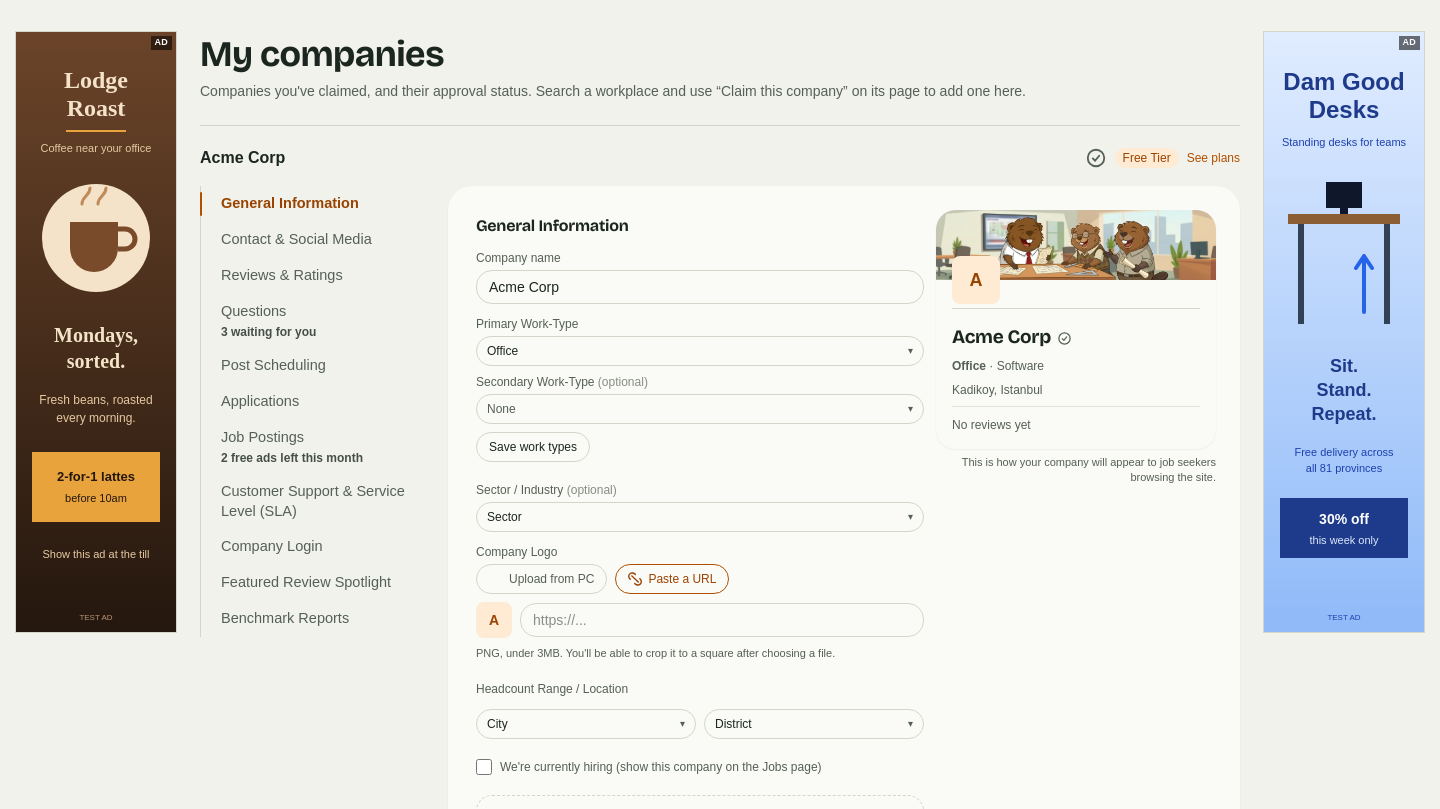
Test: secondary work-type dropdown excludes the primary, and changing the primary clears a now-invalid secondary
Check: the button with aria-label "Primary work-type" shows "Office", box [476,336,924,366]
// The secondary list never offers the current primary.
Click the button with aria-label "Secondary work-type" at (501, 409), box [476,394,924,424]
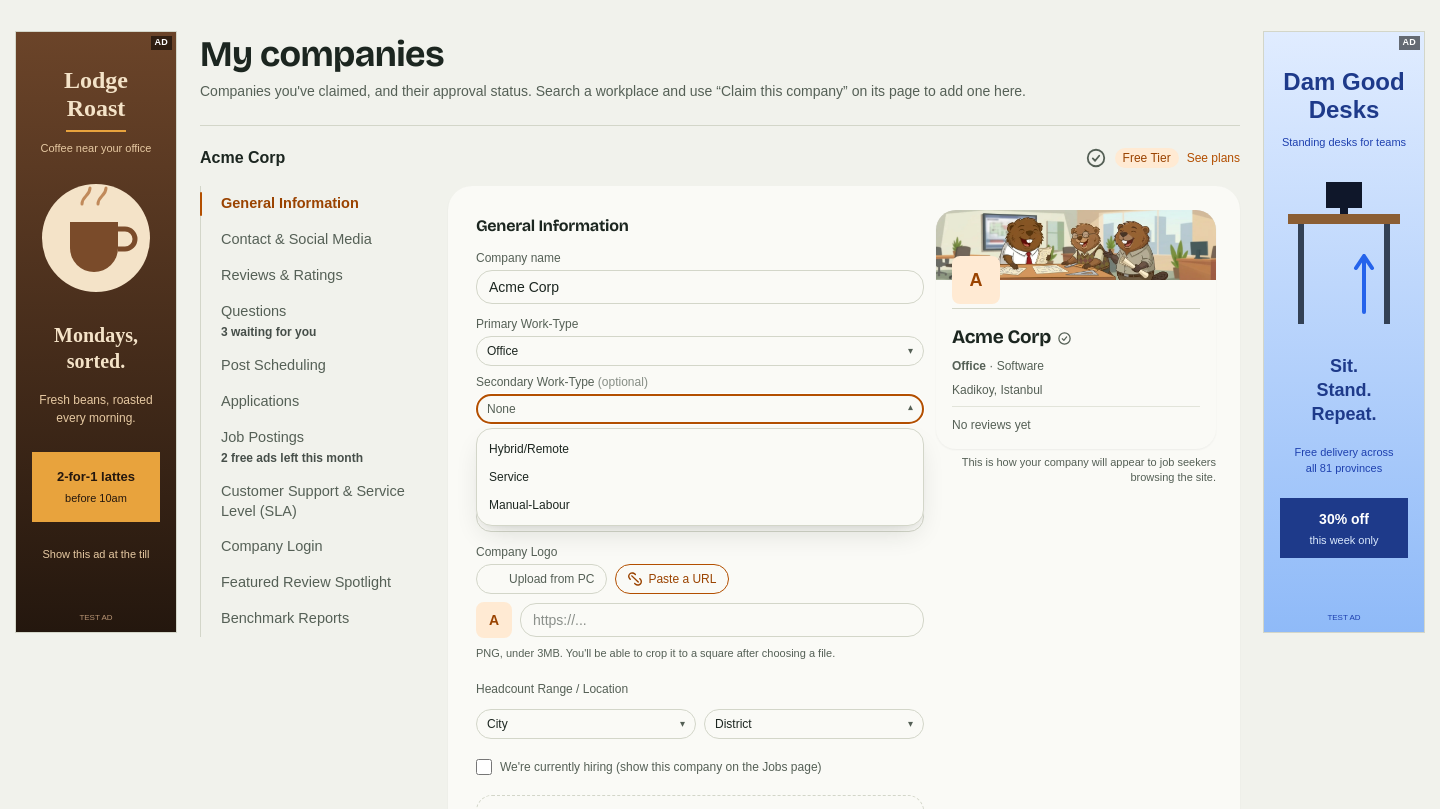
Click the button "Service" at (509, 477), box [481,463,919,491]
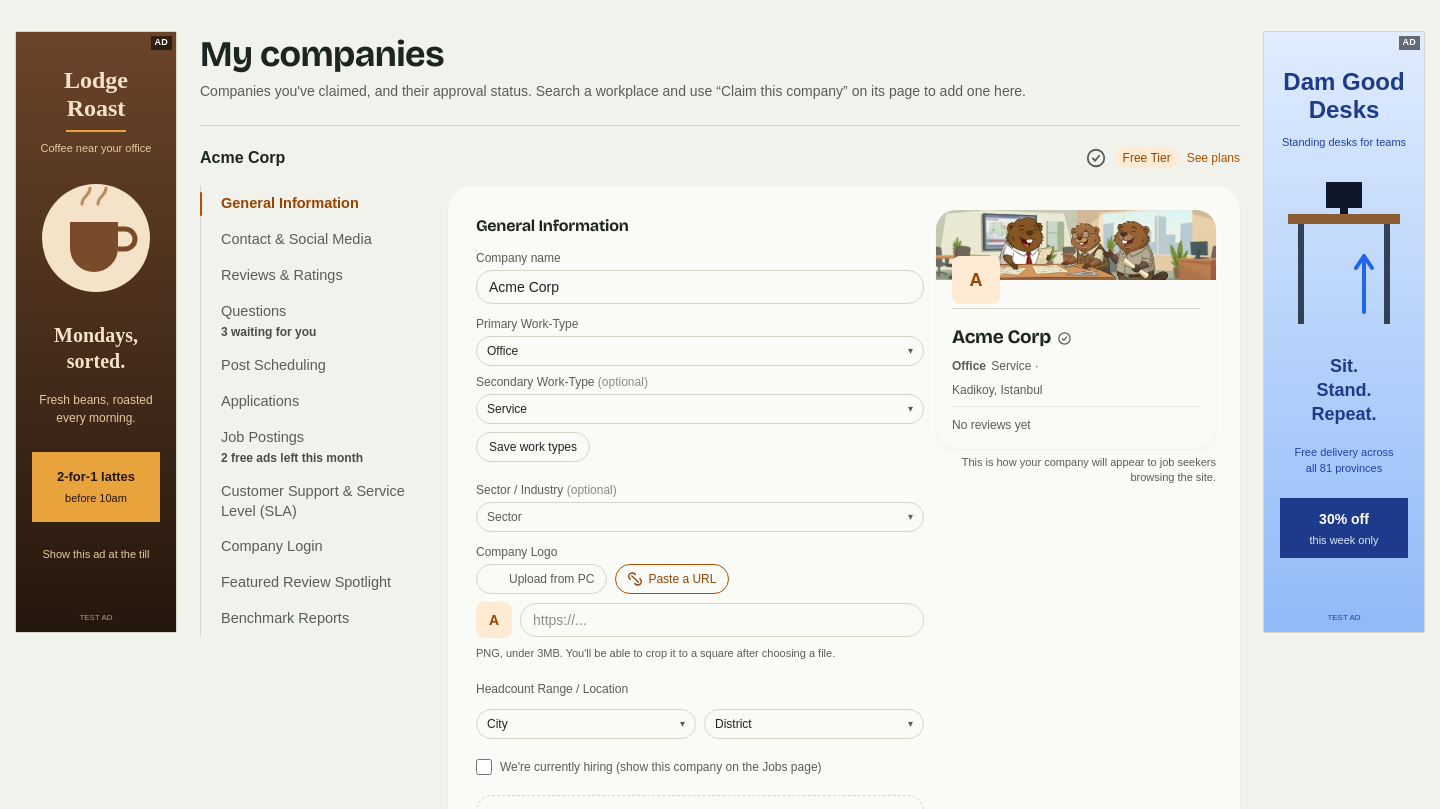
Check: the button with aria-label "Secondary work-type" shows "Service", box [476,394,924,424]
// Switching the primary to what the secondary holds drops the secondary.
Click the button with aria-label "Primary work-type" at (503, 351), box [476,336,924,366]
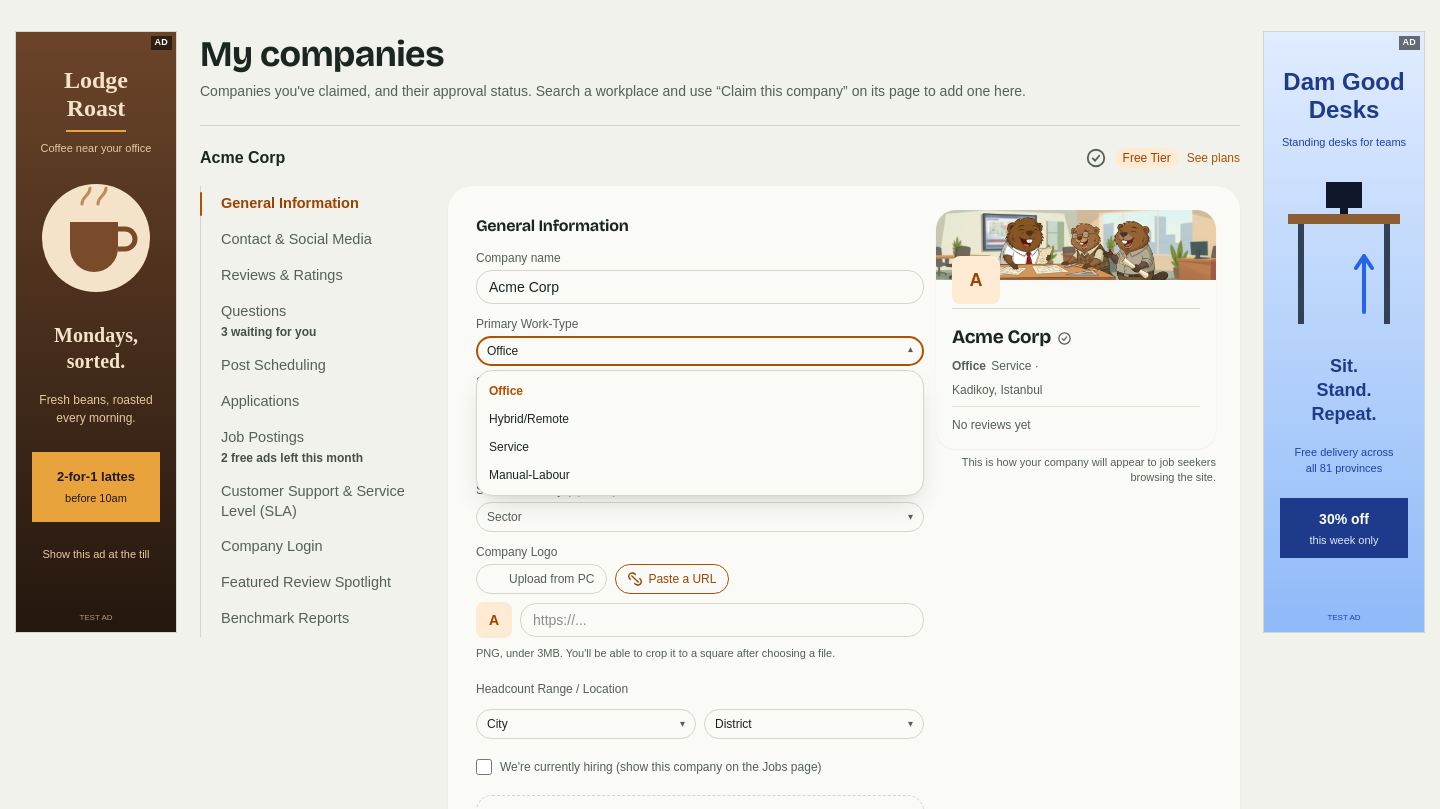
Click the button "Service" at (509, 447), box [481,433,919,461]
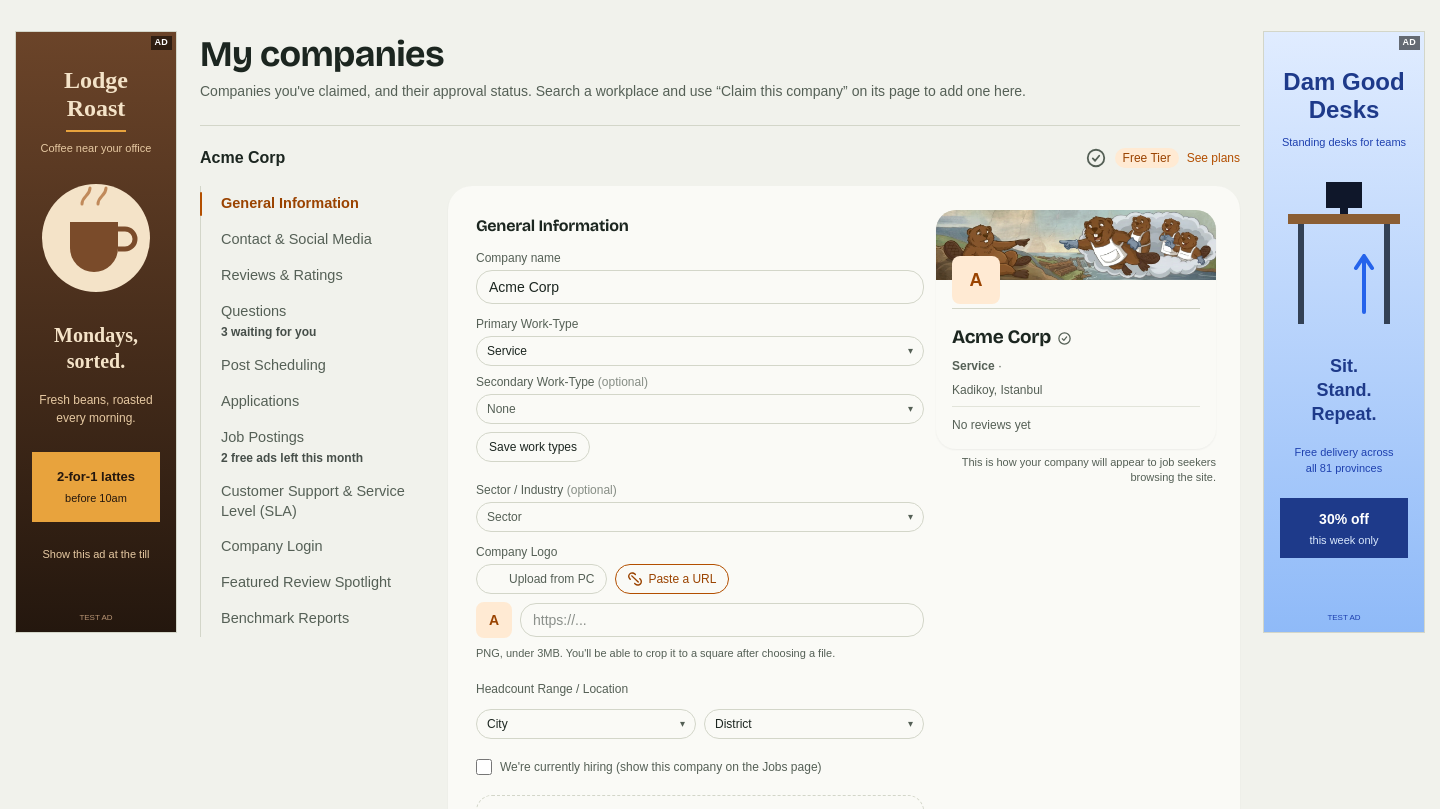
Check: the button with aria-label "Primary work-type" shows "Service", box [476,336,924,366]
Check: the button with aria-label "Secondary work-type" shows "None", box [476,394,924,424]
